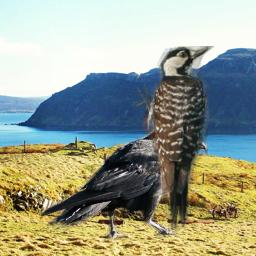Crow: (38, 122, 207, 245)
Woodpecker: (130, 46, 215, 239)
